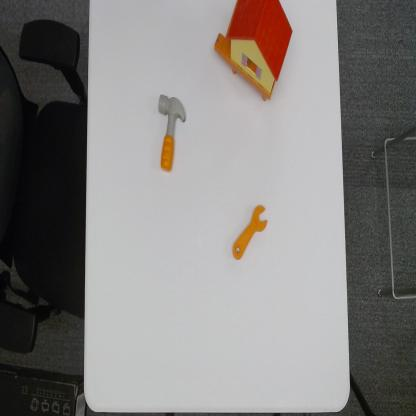Hammer: (213, 0, 294, 104), (157, 91, 187, 174)
Screwdriver: (230, 201, 268, 264)
